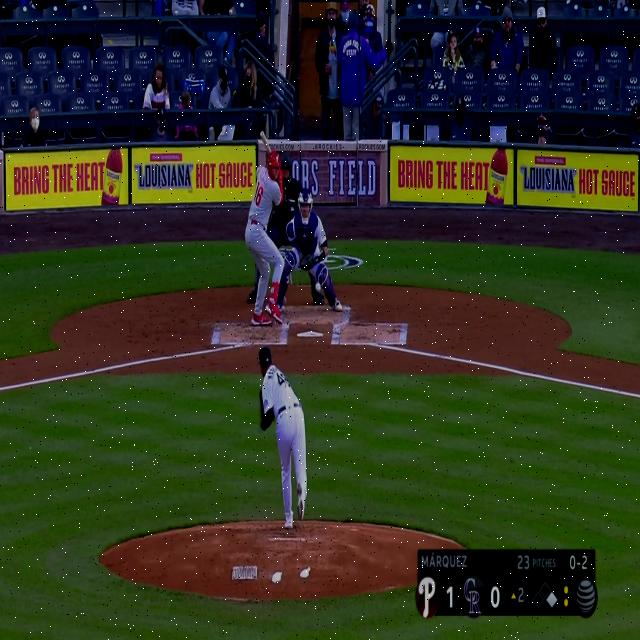baseball: (314, 280, 322, 294)
